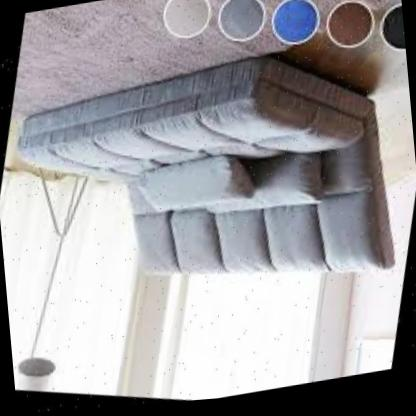Sofa: (0, 0, 416, 369)
